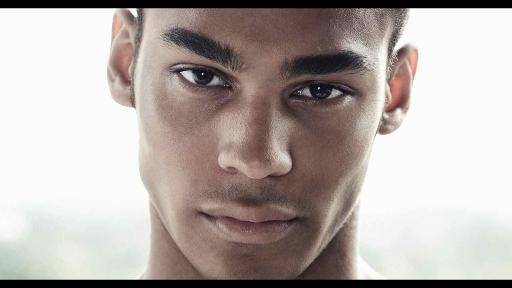left_eye: (290, 82, 353, 103)
left_lip_corner: (285, 213, 310, 229)
right_eye: (171, 67, 236, 90)
right_lip_corner: (191, 206, 215, 223)
